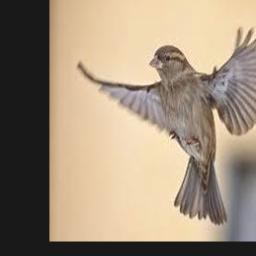Sparrow: (78, 26, 256, 224)
